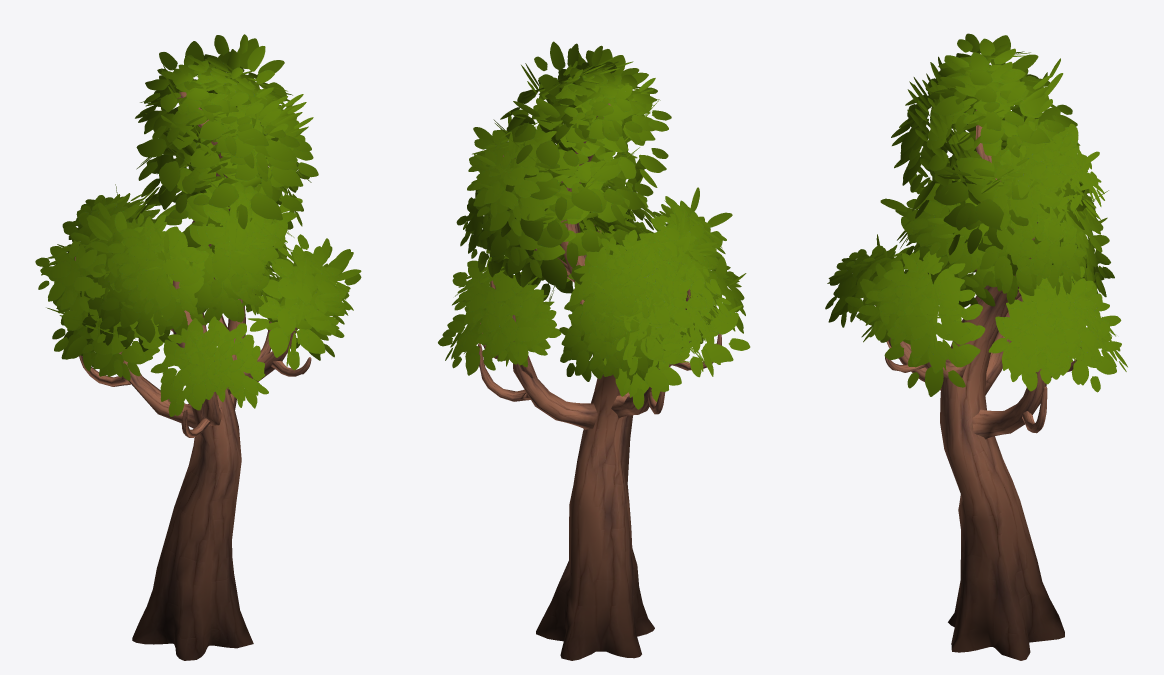
The model's file is commontree_2_lod1.glb.
3 views of the same model, side by side, from view 1: azimuth 30°, elevation 25°; view 2: azimuth 150°, elevation 25°; view 3: azimuth 270°, elevation 25° (orthographic). The views are drawn at different scales.
Parts seen in each view (by area): view 1: CommonTree_2; view 2: CommonTree_2; view 3: CommonTree_2.
Part boxes in pixels (x1,y1,x2,y2): CommonTree_2: (35,34,361,660); CommonTree_2: (438,41,750,660); CommonTree_2: (825,33,1127,660).
Bounding box in the file's own units: 4.26 × 7.62 × 3.96.
Materials: 2 (2 with a texture image).
